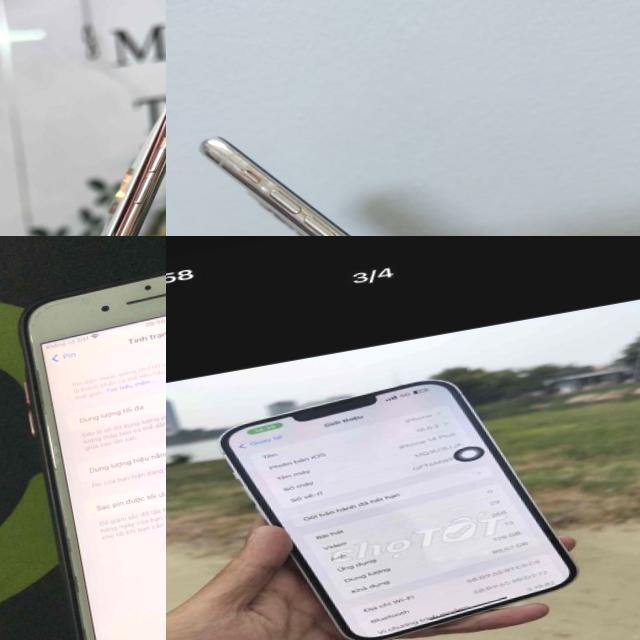scratch: (31, 280, 150, 314), (68, 619, 100, 640), (60, 519, 76, 555), (66, 570, 84, 595)
